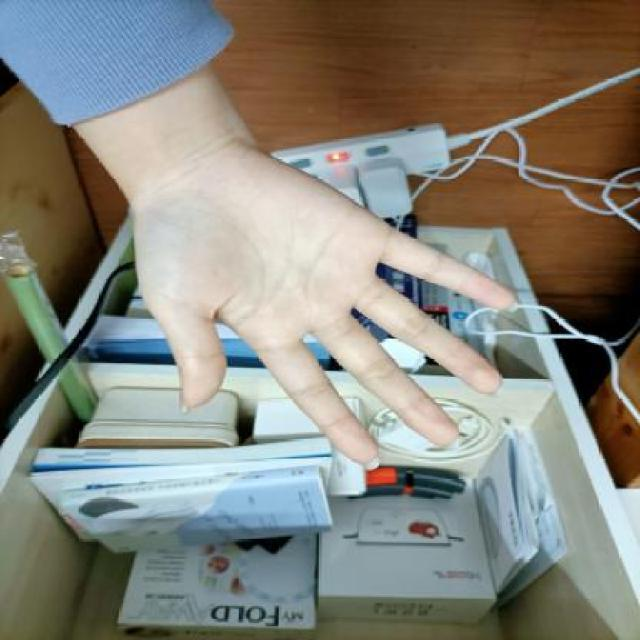bare_hand: (112, 126, 532, 485)
